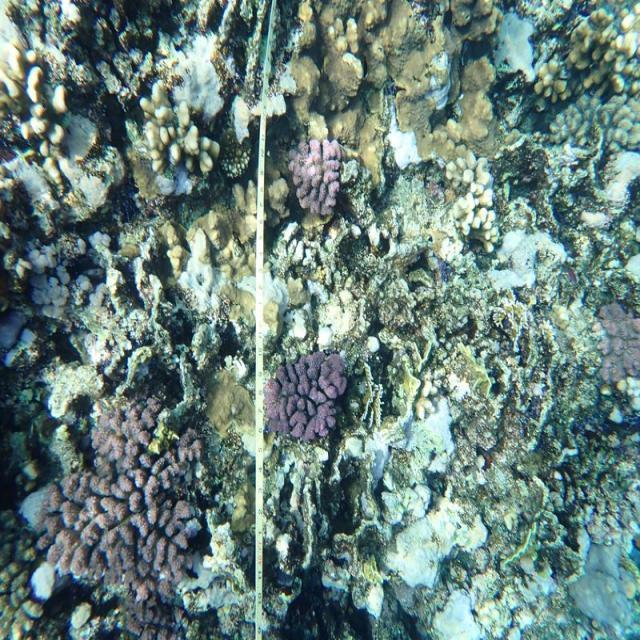Bleached Coral: (369, 483, 501, 589), (432, 142, 504, 259), (484, 213, 569, 306)
Healthy Coral: (60, 418, 214, 616), (255, 347, 356, 442), (136, 79, 218, 193), (290, 147, 355, 213)
